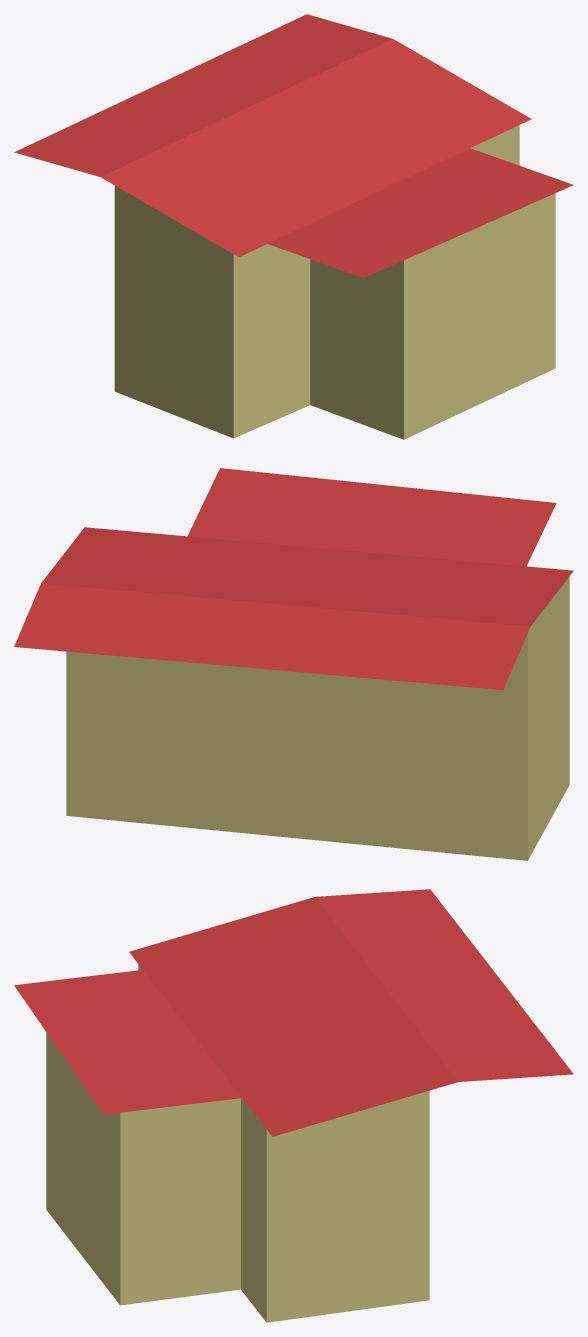
The picture shows the model from 3 angles, top to bottom: view 1: azimuth 30°, elevation 25°; view 2: azimuth 150°, elevation 25°; view 3: azimuth 270°, elevation 25°; orthographic projection. The views are drawn at different scales.
Size of the model in its own units: 12.85 by 13.4 by 5.88.
